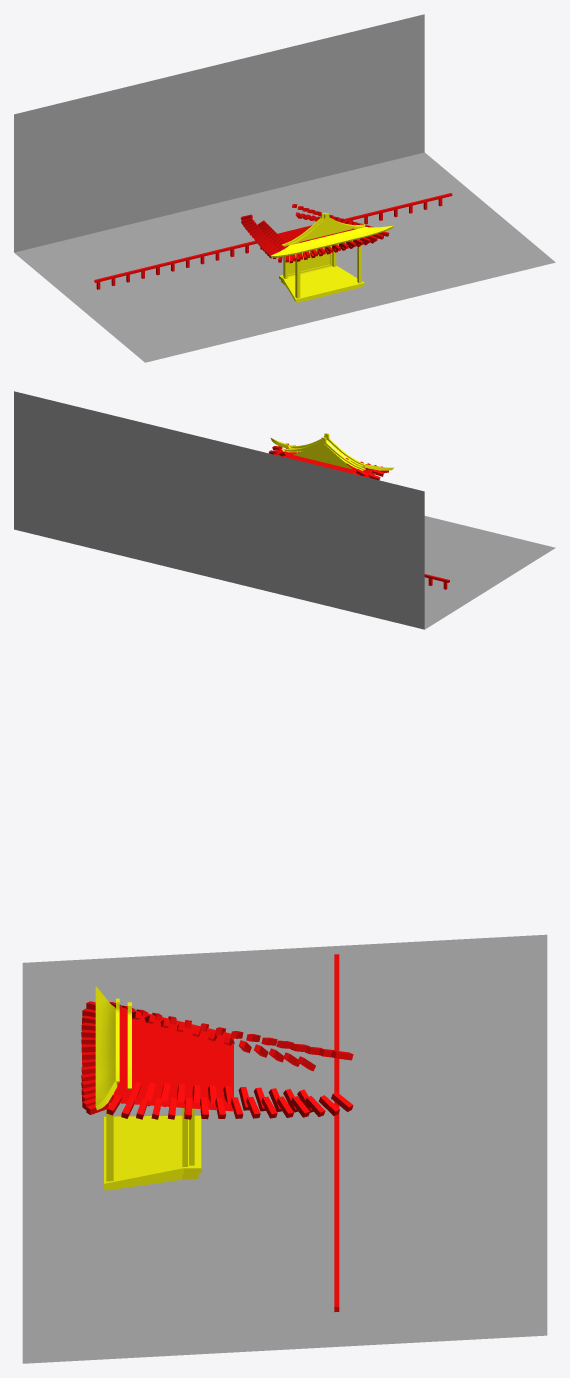
Rendered from giappo_env (1).fbx.
3 renders of one model, top to bottom at view 1: azimuth 30°, elevation 25°; view 2: azimuth 150°, elevation 25°; view 3: azimuth 270°, elevation 25°, orthographic. The views are drawn at different scales.
Visible parts, largest first — view 1: pPlane5, pCube3; view 2: pPlane5, pCube3; view 3: pPlane5, pCube3.
Part boxes in pixels (bbox=[...]): pPlane5: bbox=[14, 14, 555, 362]; pCube3: bbox=[94, 193, 452, 302]; pPlane5: bbox=[14, 391, 555, 629]; pCube3: bbox=[269, 433, 449, 589]; pPlane5: bbox=[22, 934, 547, 1363]; pCube3: bbox=[81, 954, 353, 1312].
Bounding box in the file's own units: 26.63 × 9.44 × 14.73.
